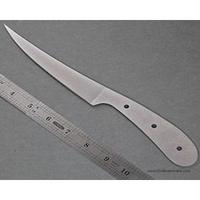knife: (4, 22, 185, 156)
